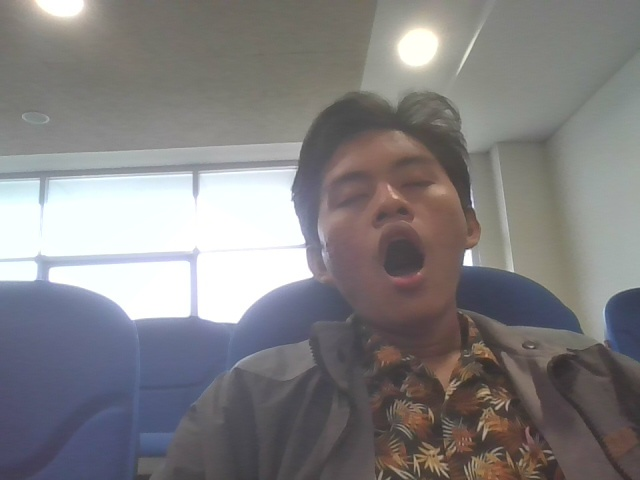Drowsy: (259, 104, 538, 414)
